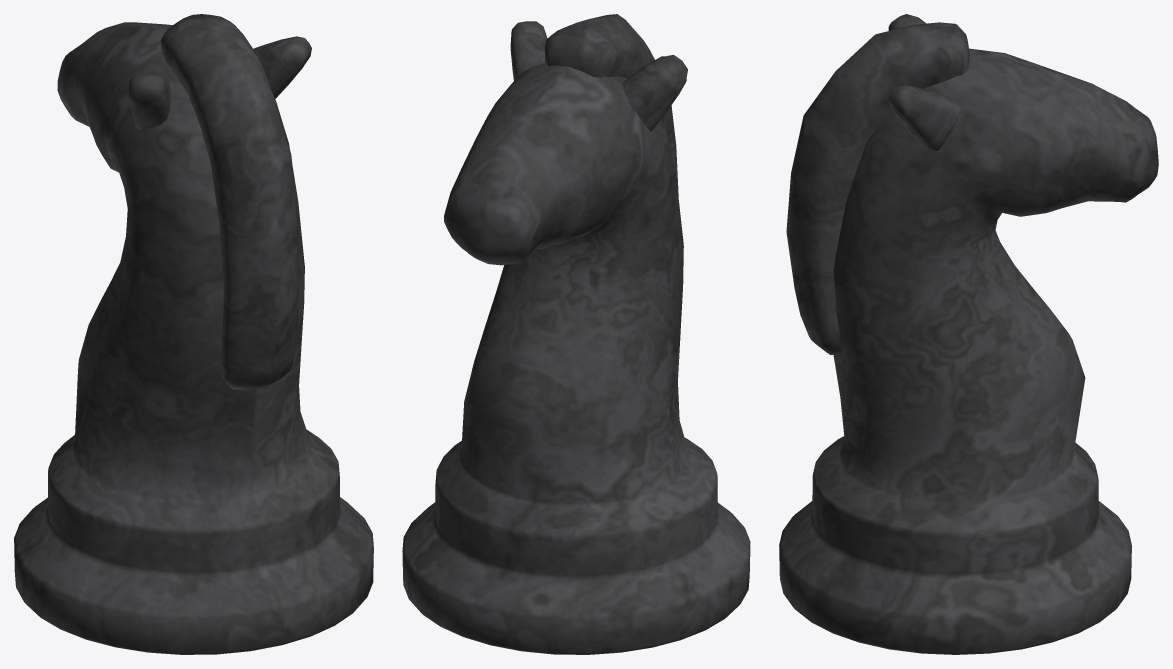
The model's file is GEO_BlackKnight.obj.
3 views of the same model, side by side, from view 1: azimuth 30°, elevation 25°; view 2: azimuth 150°, elevation 25°; view 3: azimuth 270°, elevation 25° (orthographic). The views are drawn at different scales.
Visible parts, largest first — view 1: GEO_BlackKnight_01; view 2: GEO_BlackKnight_01; view 3: GEO_BlackKnight_01.
Boxes of the visible parts, <box> form: GEO_BlackKnight_01: <box>14,14,373,654</box>; GEO_BlackKnight_01: <box>402,14,750,654</box>; GEO_BlackKnight_01: <box>779,14,1158,654</box>.
Size of the model in its own units: 0.0377 by 0.0655 by 0.0406.
